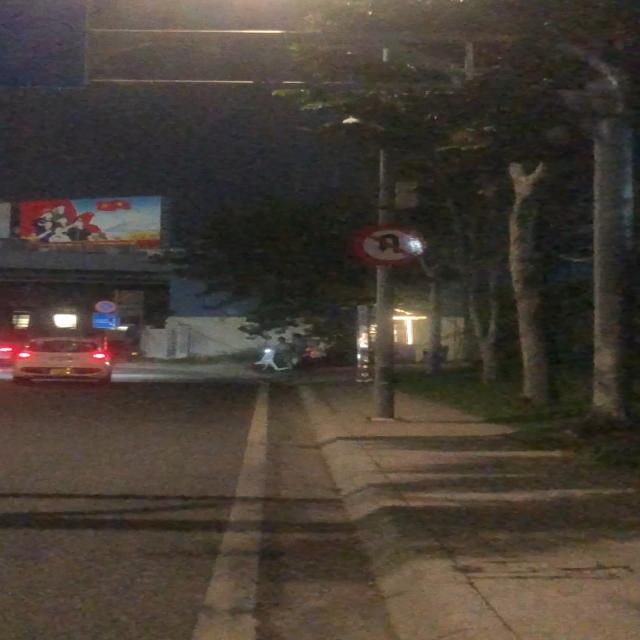Bien bao cam quay dau xe: (350, 221, 432, 267)
